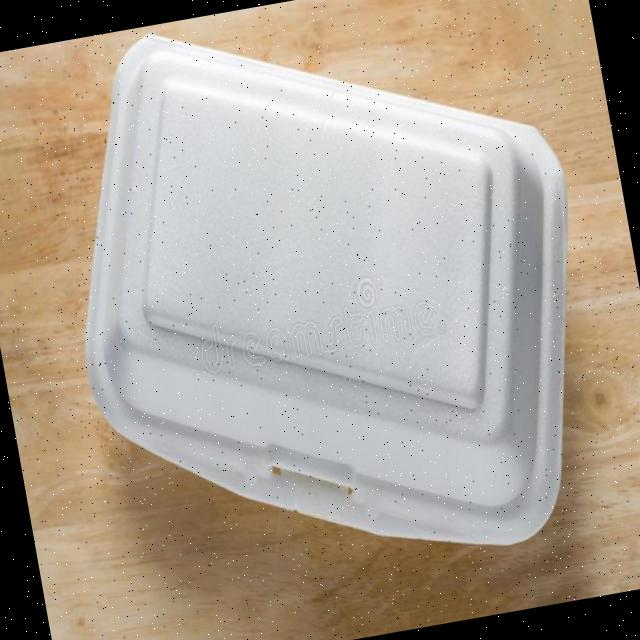styrofoam: (28, 0, 626, 612)
